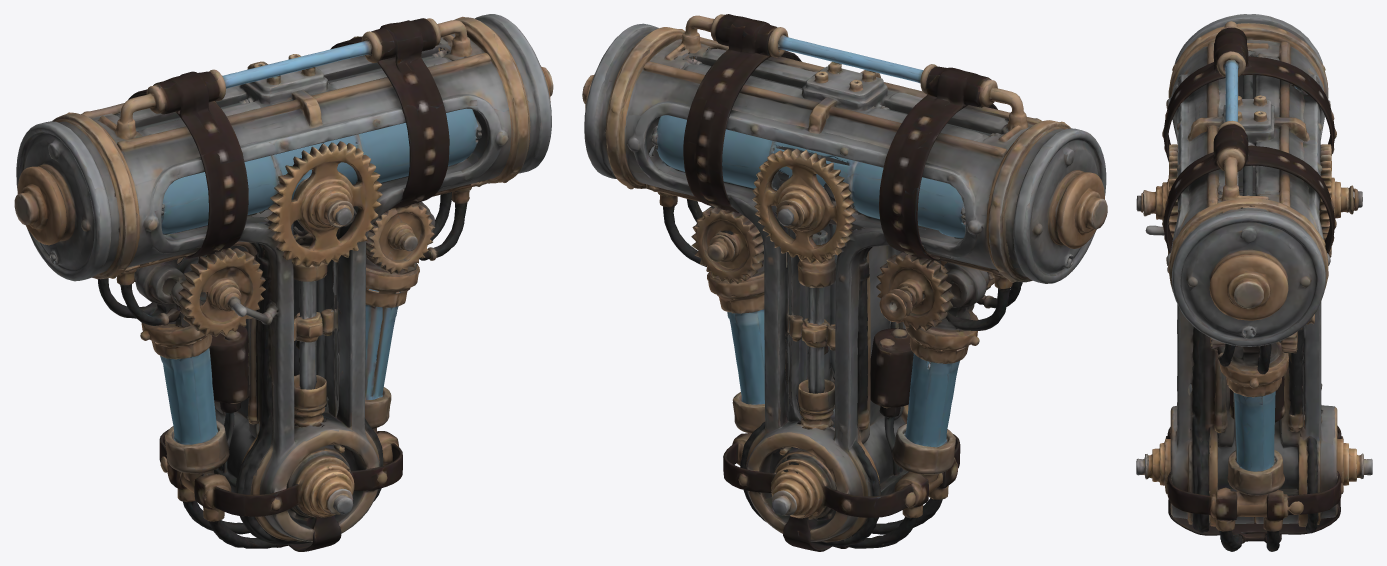
The picture shows the model from 3 angles, left to right: view 1: azimuth 30°, elevation 25°; view 2: azimuth 150°, elevation 25°; view 3: azimuth 270°, elevation 25°; orthographic projection. The views are drawn at different scales.
Parts seen in each view (by area): view 1: world; view 2: world; view 3: world.
Boxes of the visible parts, bbox=[...] form: world: bbox=[14, 14, 553, 551]; world: bbox=[582, 14, 1107, 551]; world: bbox=[1136, 14, 1372, 551].
Bounding box in the file's own units: 1 × 0.9052 × 0.4295.
1 material, 1 textured.
